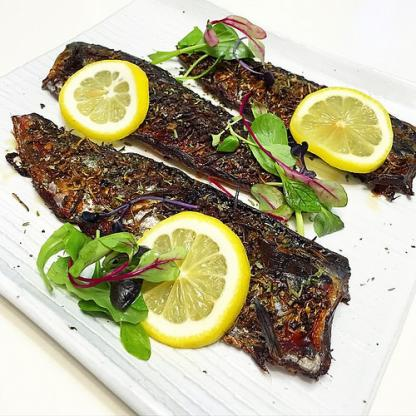Peixe: (10, 14, 416, 370)
